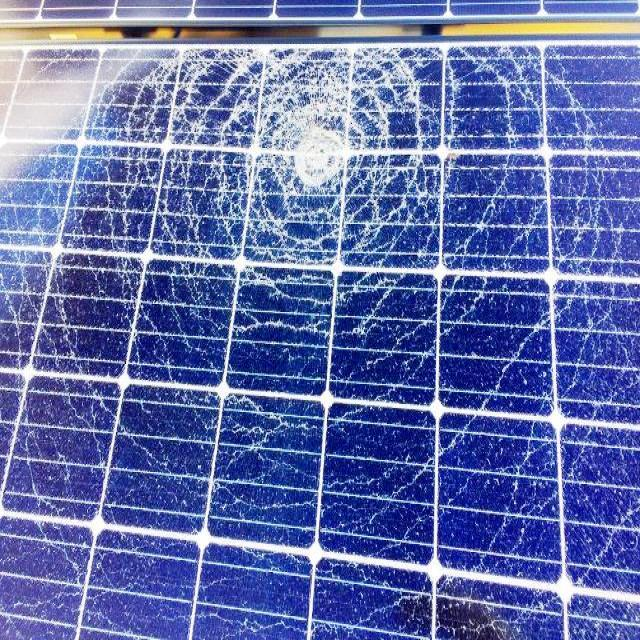faulty: (3, 46, 640, 640)
